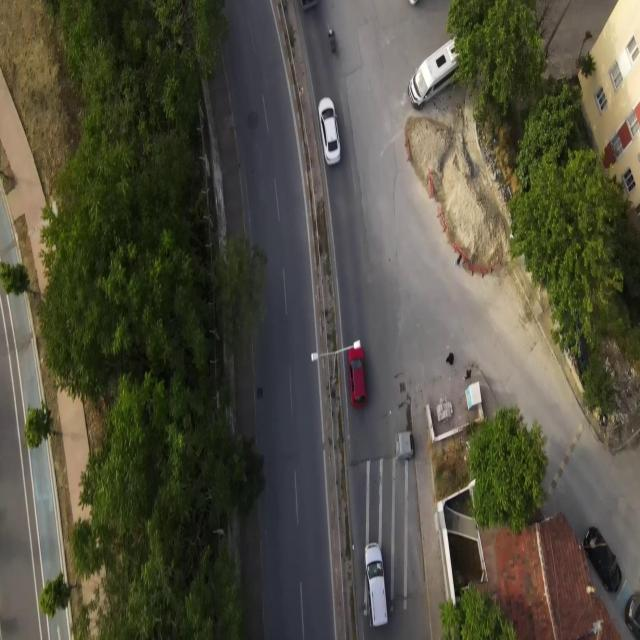p3rson: (463, 368, 472, 382)
